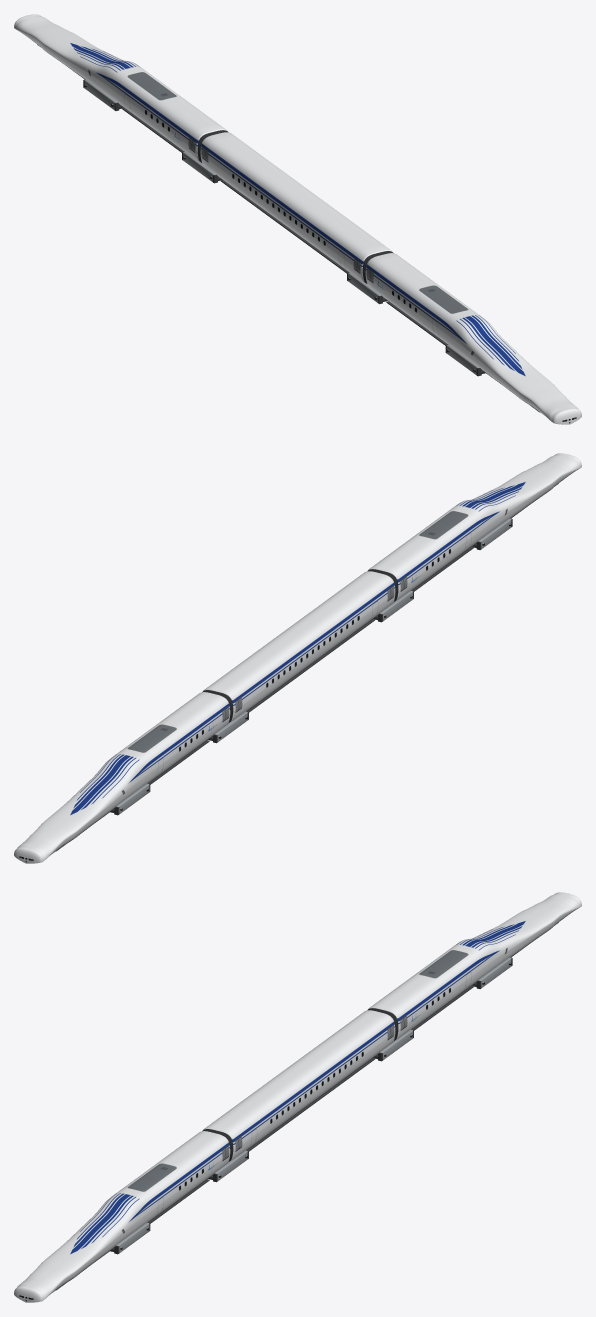
3 views of the same model, one above another, from view 1: azimuth 30°, elevation 25°; view 2: azimuth 150°, elevation 25°; view 3: azimuth 330°, elevation 25° (orthographic).
Visible parts, largest first — view 1: car0_body, car1_body, car2_body, car1_gear, car0_gear, car2_gear; view 2: car2_body, car1_body, car0_body, car1_gear, car2_gear, car0_gear; view 3: car0_body, car1_body, car2_body, car1_gear, car0_gear, car2_gear.
Boxes of the visible parts, x1,y1,x2,y2 form: car0_body: (364, 252, 581, 424); car1_body: (199, 131, 393, 282); car2_body: (14, 14, 228, 161); car1_gear: (182, 151, 387, 304); car0_gear: (386, 301, 539, 412); car2_gear: (37, 44, 183, 152); car2_body: (14, 691, 231, 863); car1_body: (202, 570, 396, 721); car0_body: (367, 453, 581, 600); car1_gear: (208, 590, 413, 743); car2_gear: (56, 740, 209, 851); car0_gear: (412, 483, 558, 591); car0_body: (14, 1130, 231, 1302); car1_body: (202, 1009, 396, 1160); car2_body: (367, 892, 581, 1039); car1_gear: (208, 1029, 413, 1182); car0_gear: (56, 1179, 209, 1290); car2_gear: (412, 922, 558, 1030).
Size of the model in its own units: 3.19 by 3.11 by 79.98.
Materials: 4 (4 with a texture image).
